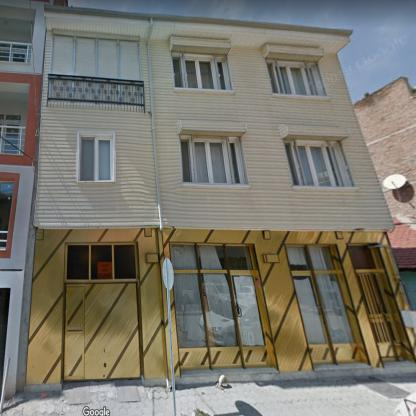door: (356, 270, 406, 361), (292, 271, 334, 364), (230, 272, 271, 366), (64, 287, 85, 381), (1, 288, 10, 398)
window: (169, 244, 257, 370), (286, 245, 367, 362), (50, 29, 140, 80), (180, 135, 248, 184), (283, 142, 353, 186), (64, 243, 140, 282), (265, 58, 326, 96), (172, 53, 230, 91), (77, 132, 115, 182), (1, 182, 13, 248), (348, 245, 379, 269), (1, 114, 21, 148), (1, 139, 20, 155)
